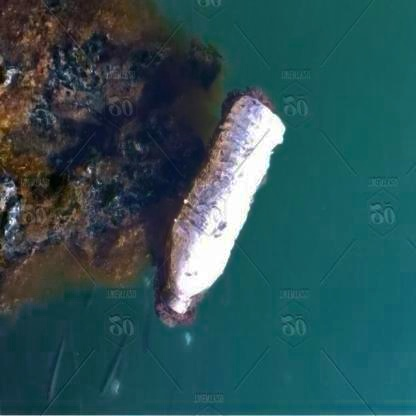pbottle: (142, 77, 294, 340)
